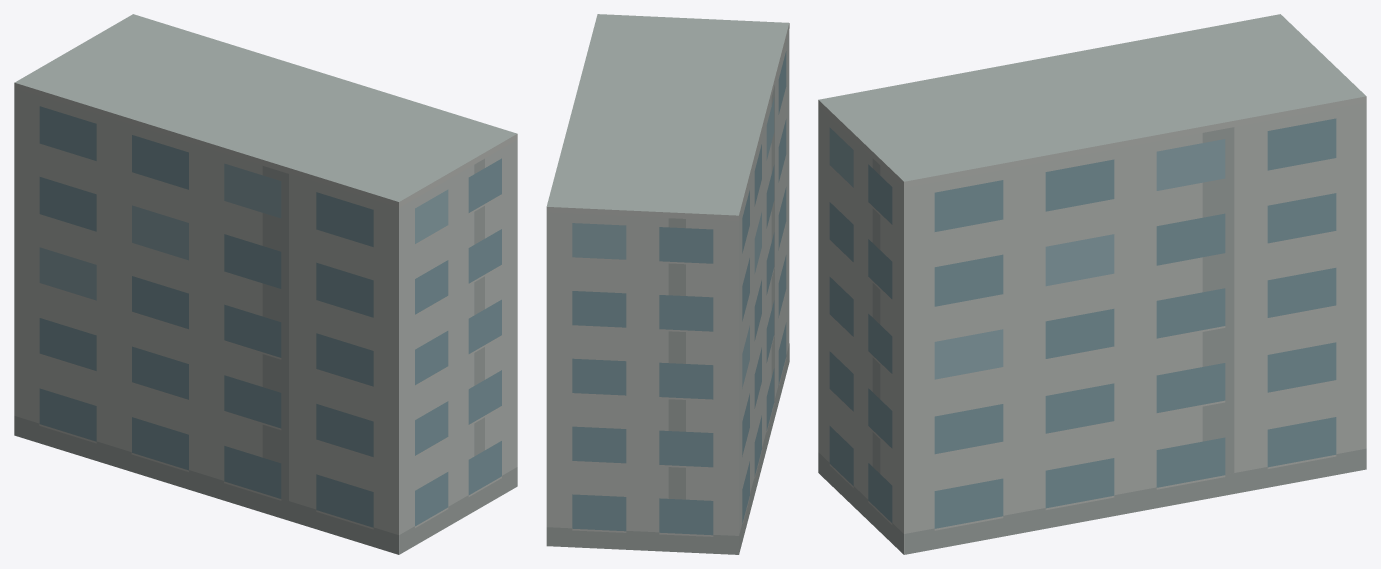
File: survey-upis-32593375.glb
The picture shows the model from 3 angles, left to right: view 1: azimuth 30°, elevation 25°; view 2: azimuth 150°, elevation 25°; view 3: azimuth 270°, elevation 25°; orthographic projection. The views are drawn at different scales.
Parts seen in each view (by area): view 1: survey-upis-32593375.tmp; view 2: survey-upis-32593375.tmp; view 3: survey-upis-32593375.tmp.
Part boxes in pixels (left/top/right/bottom): survey-upis-32593375.tmp: left=14, top=14, right=517, bottom=554; survey-upis-32593375.tmp: left=546, top=14, right=789, bottom=554; survey-upis-32593375.tmp: left=818, top=14, right=1366, bottom=554.
Size of the model in its own units: 13.8 by 14.3 by 19.05.
